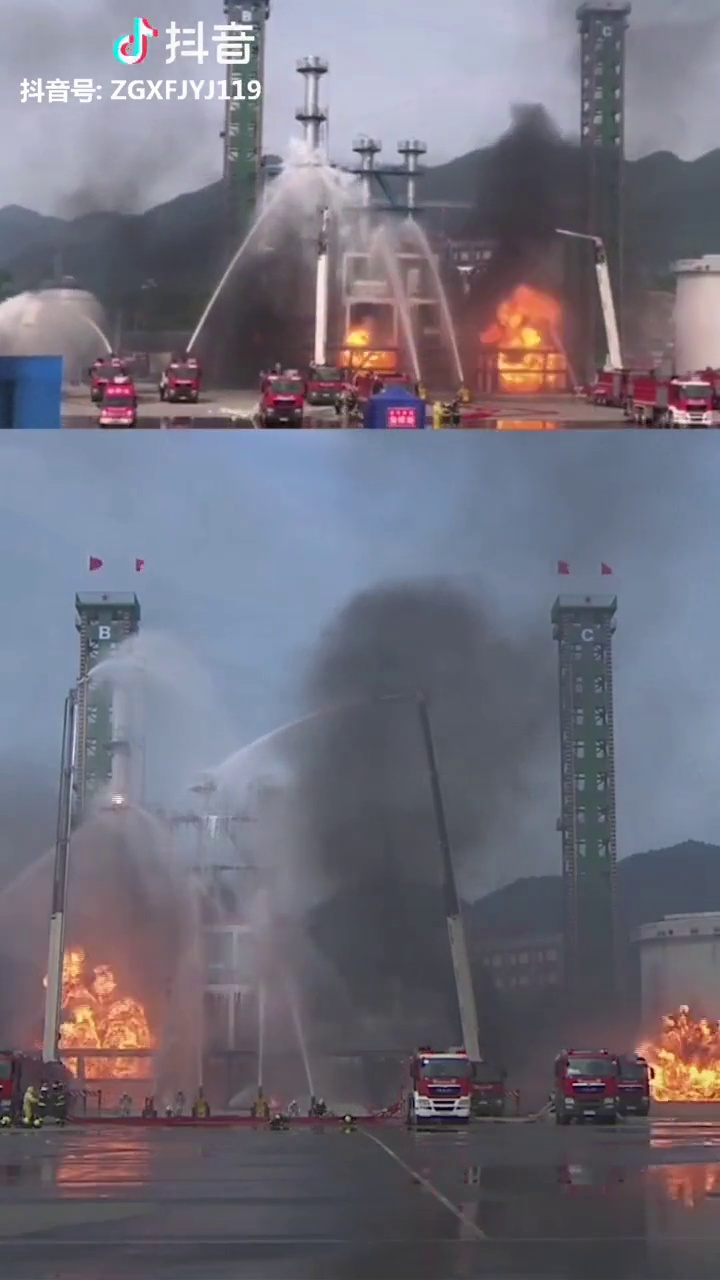fire: (31, 941, 149, 1079), (478, 273, 572, 402), (625, 992, 717, 1112), (327, 310, 398, 375)
yanwu: (329, 598, 490, 1059)
